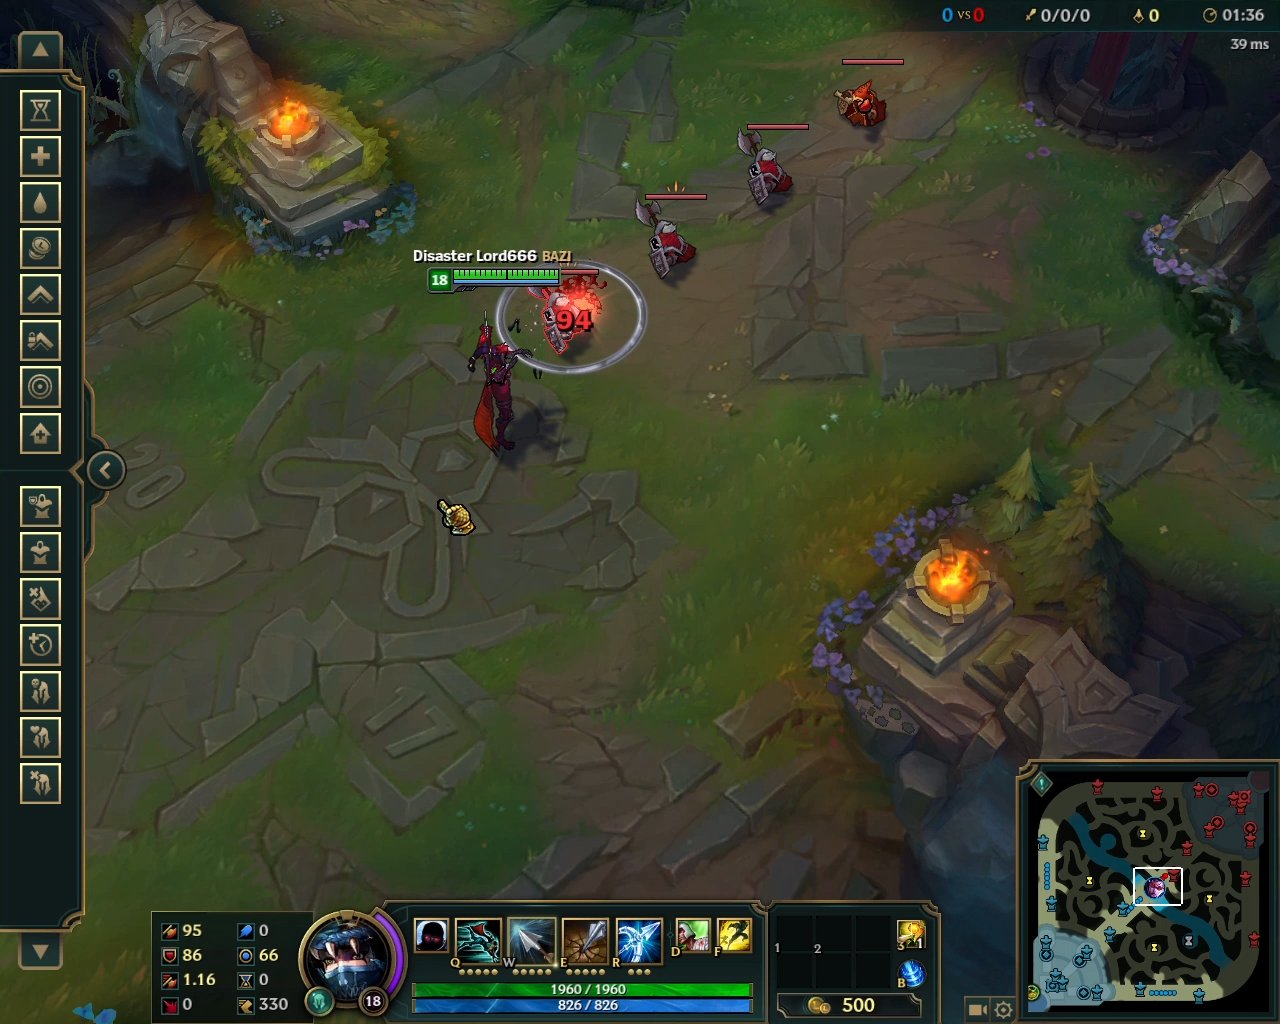EnemyMinion: (632, 193, 711, 282), (736, 124, 811, 209), (831, 80, 894, 133)
Vayne: (465, 306, 541, 460)
